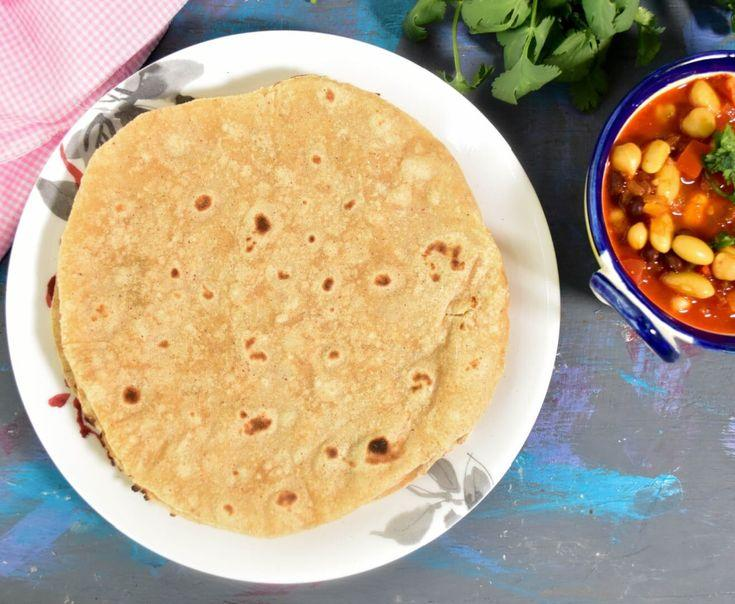roti phulka: (54, 78, 511, 533)
